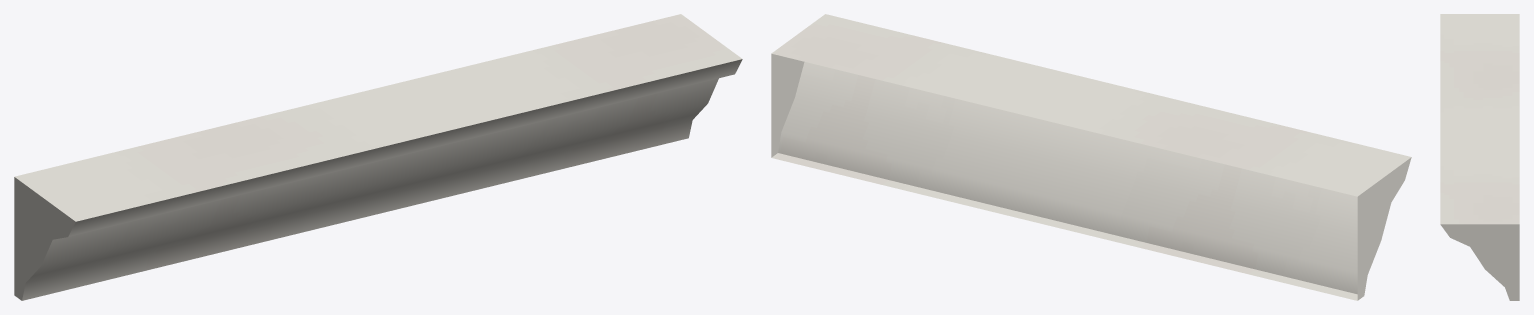
Rendered from sanca-1m-medio.glb.
3 views of the same model, side by side, from view 1: azimuth 30°, elevation 25°; view 2: azimuth 150°, elevation 25°; view 3: azimuth 270°, elevation 25° (orthographic). The views are drawn at different scales.
Size of the model in its own units: 1 by 0.17 by 0.16.
1 material, 1 textured.
